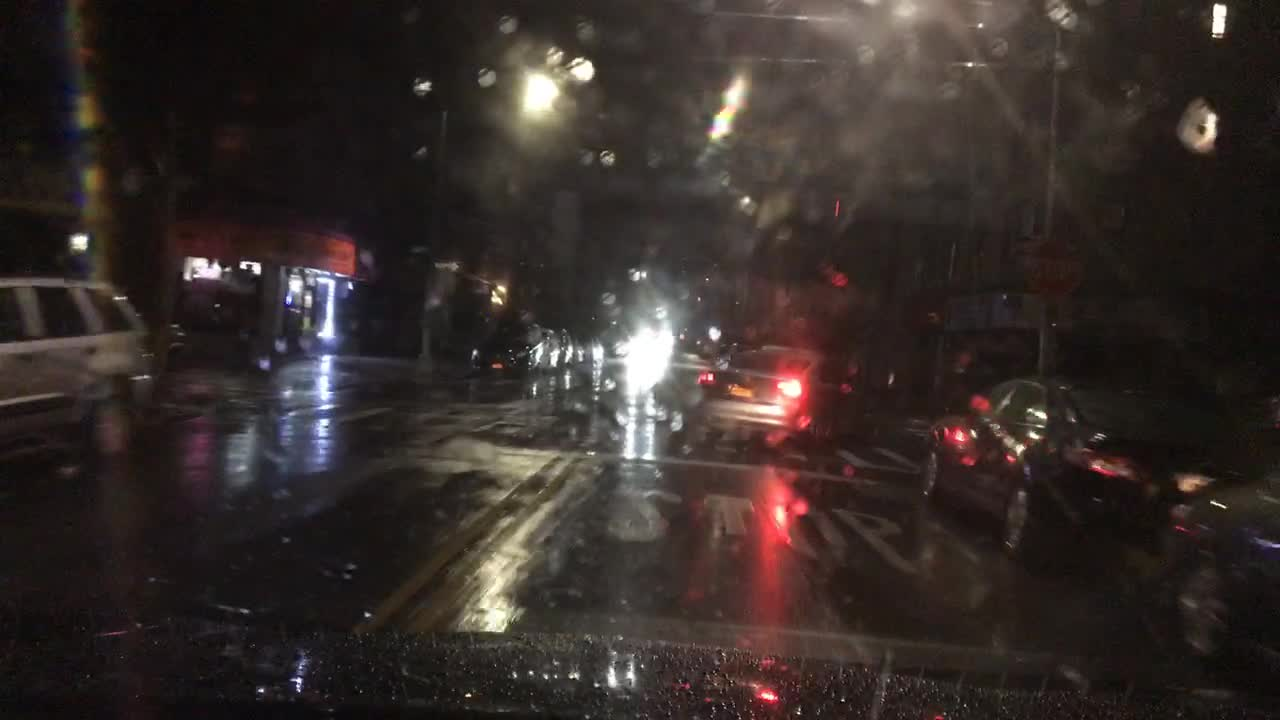car: (914, 371, 1259, 569), (0, 269, 157, 462), (1150, 461, 1279, 667), (693, 343, 890, 451), (465, 321, 554, 379), (632, 329, 673, 359), (542, 328, 565, 369), (556, 328, 575, 366), (602, 331, 630, 356), (571, 331, 590, 365), (585, 334, 606, 361)
traffic sign: (1021, 238, 1083, 300), (430, 253, 462, 273)
